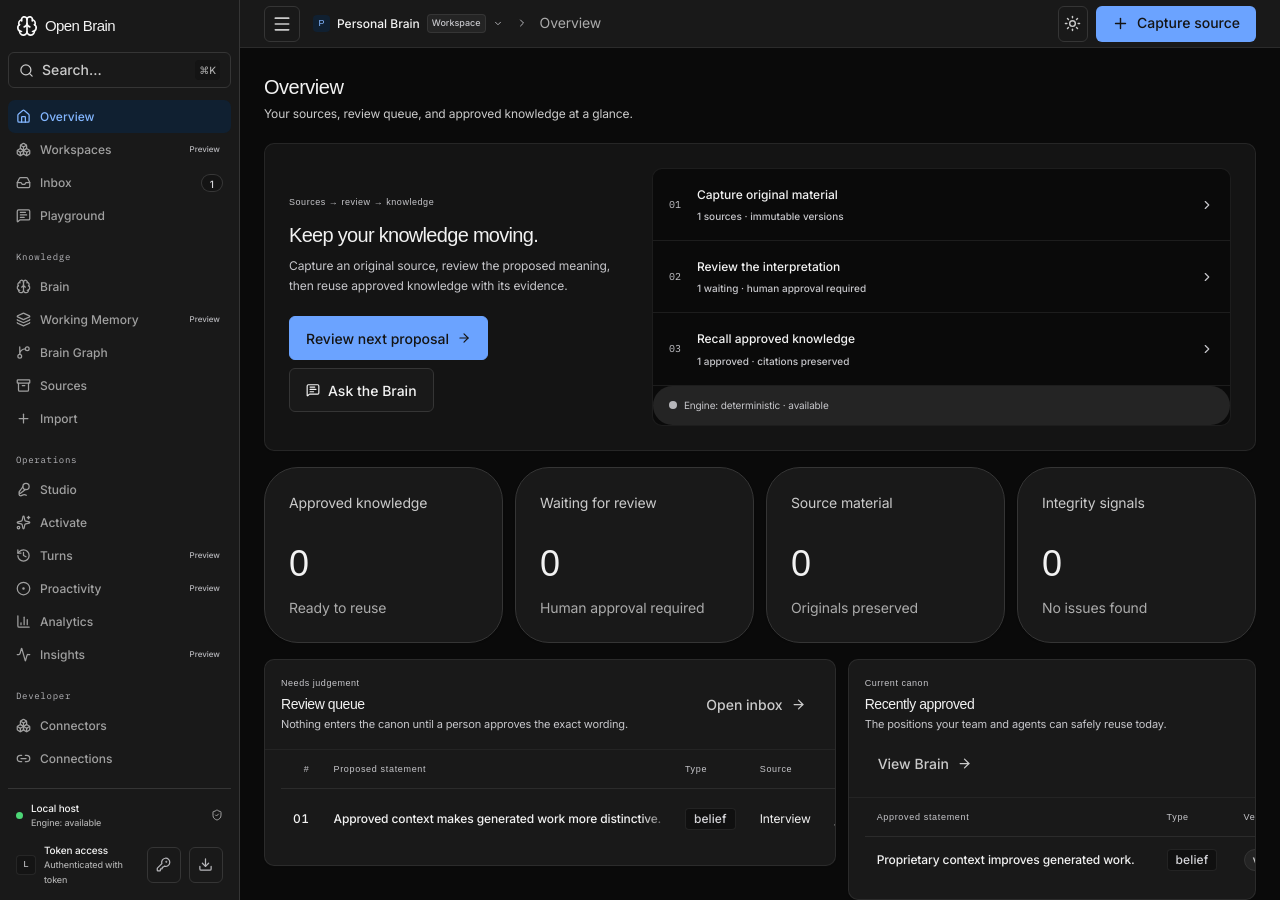
Test case: App › navigates to the live Intelligence Studio
This screenshot has width=1280, height=900.
Expected: the heading "Recently approved" is shown, [865,696,974,712]
Click the button "Studio".
click(120, 490)  # box [8,473,231,506]
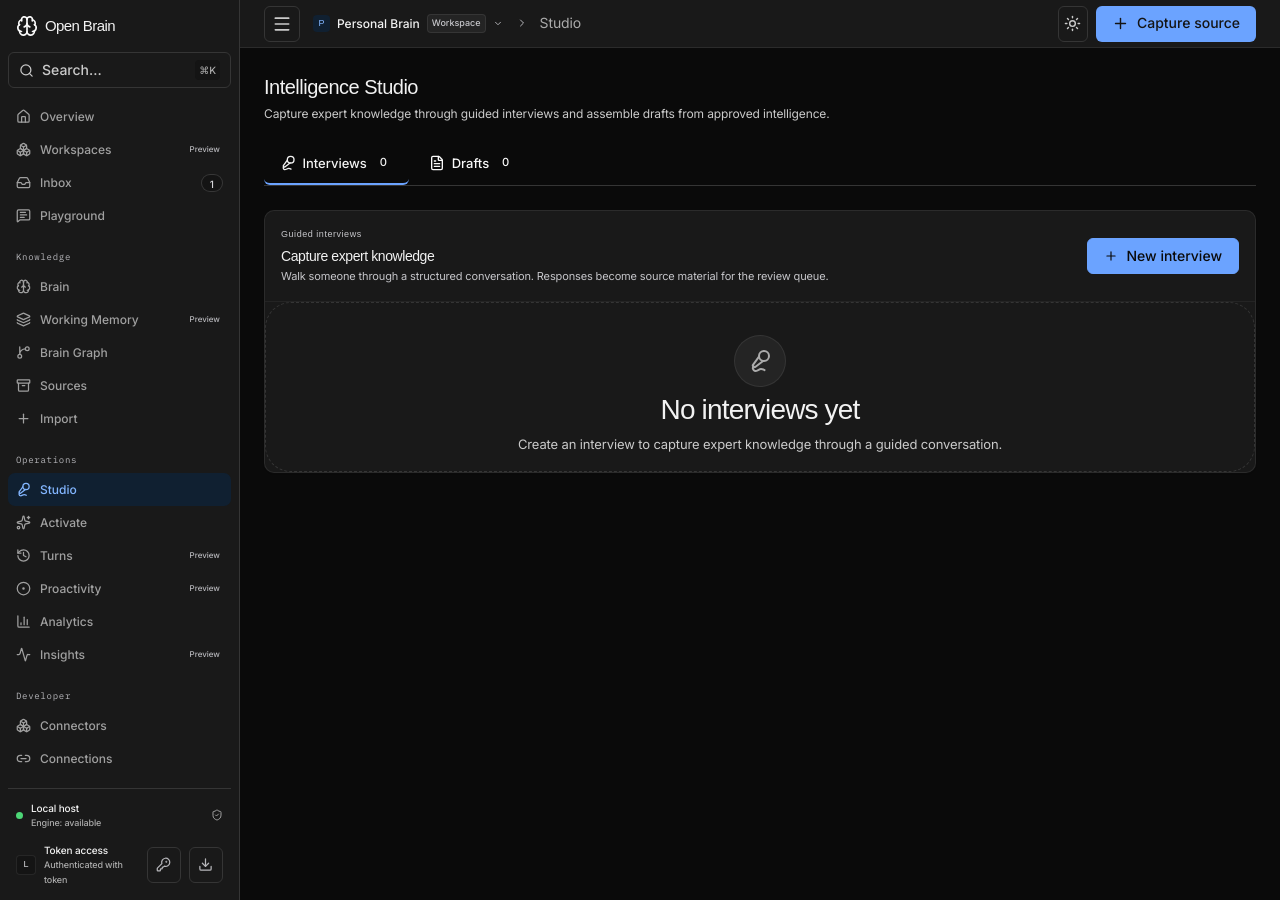
Expected: the heading "Intelligence Studio" is shown, [264,76,418,98]
Expected: the tab "Interviews 0" is shown, [264,143,409,185]
Expected: the tab "Drafts 0" is shown, [413,143,532,185]
